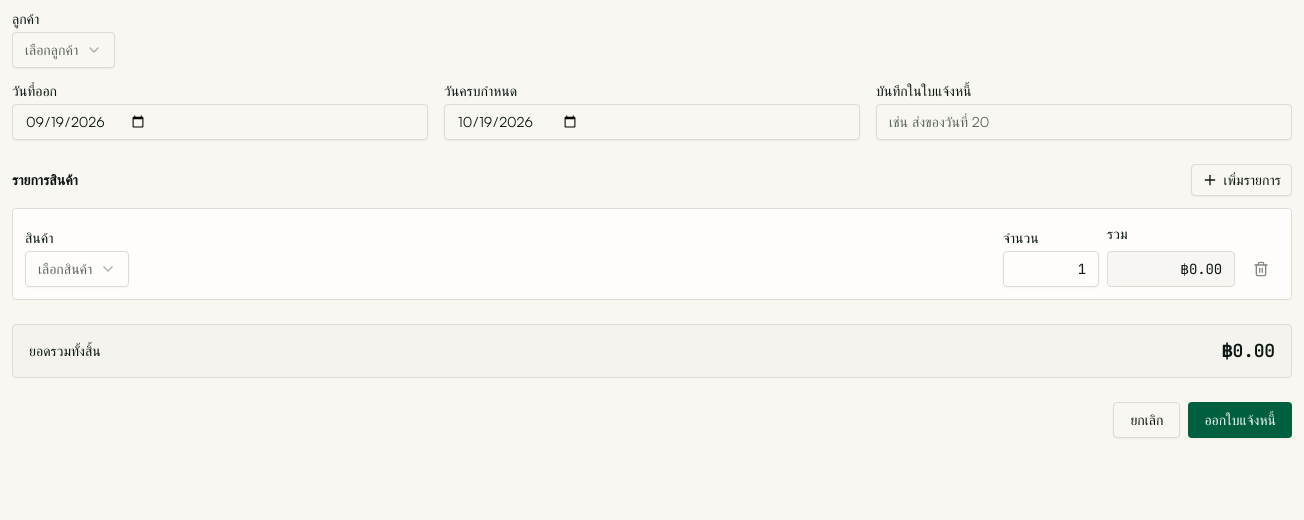
it: InvoiceForm › requires at least one product line before submitting
Click the dropdown labelled "ลูกค้า" at (64, 50), box [12,32,115,68]
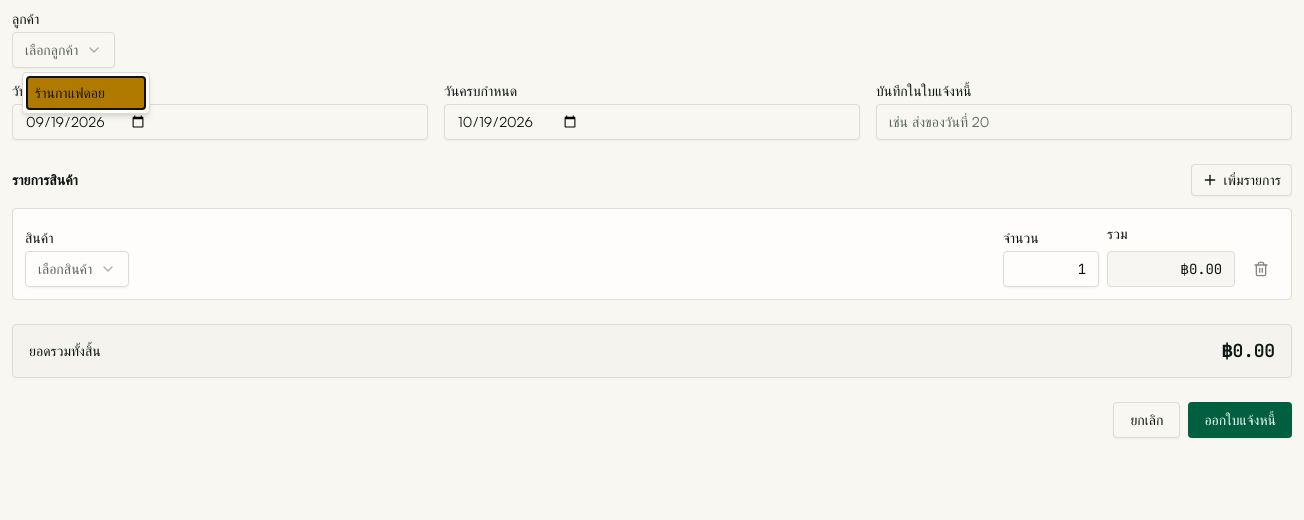
Click the option "ร้านกาแฟดอย" at (86, 93), box [27,77,145,109]
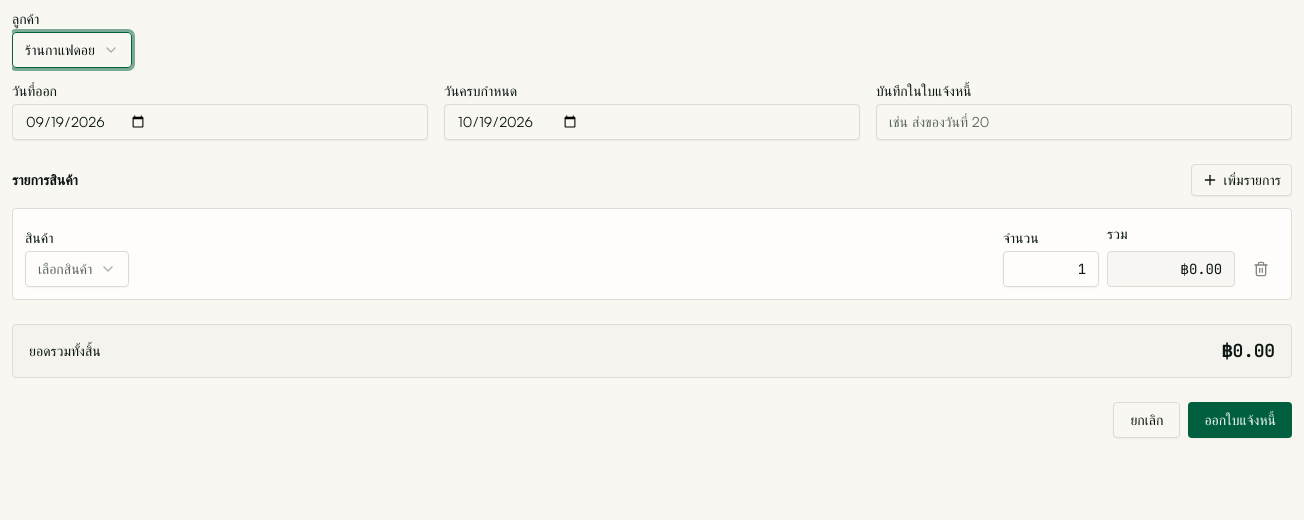
Click the button "ออกใบแจ้งหนี้" at (1240, 420), box [1188,402,1292,438]
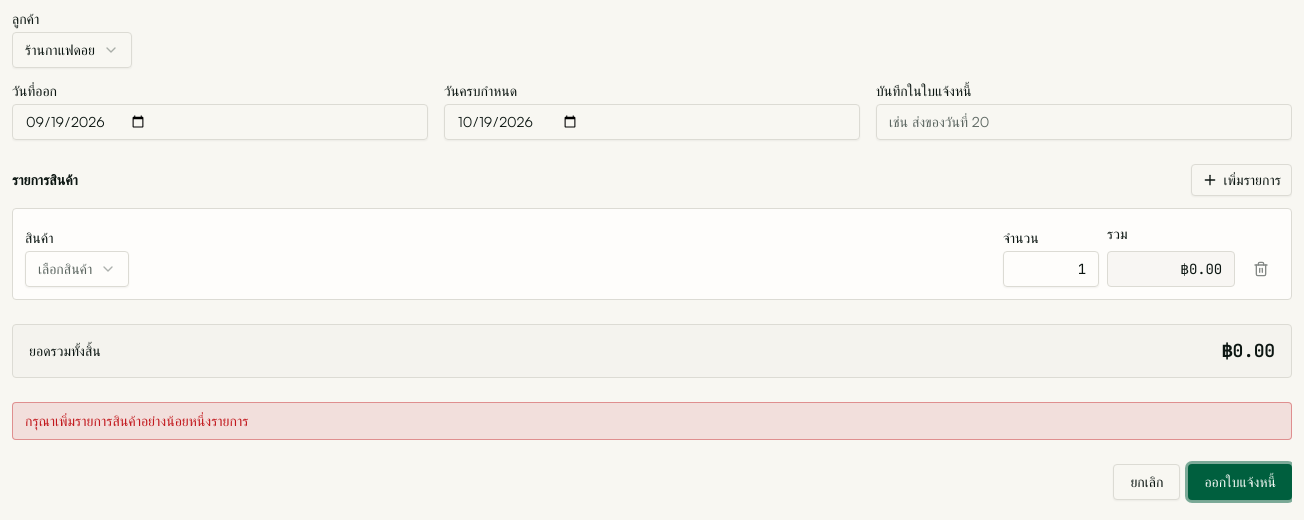
expect the text "กรุณาเพิ่มรายการสินค้าอย่างน้อยหนึ่งรายการ" is shown: met, box [12,402,1292,440]
